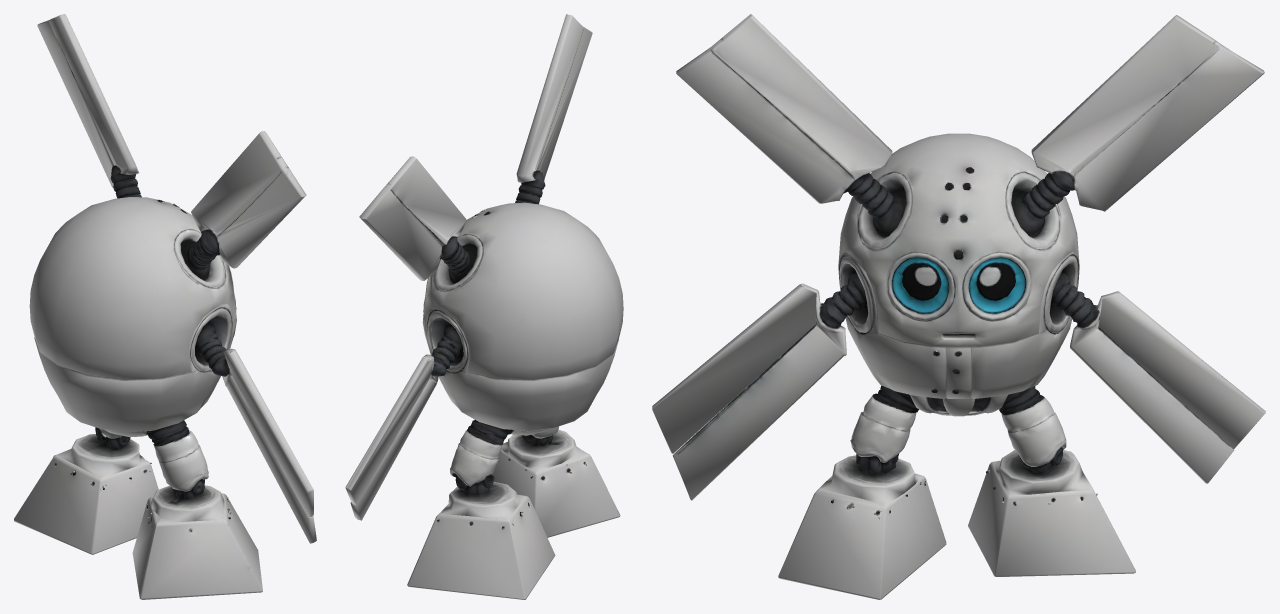
The model's file is turbchine.fbx.
3 renders of one model, left to right at view 1: azimuth 30°, elevation 25°; view 2: azimuth 150°, elevation 25°; view 3: azimuth 270°, elevation 25°, orthographic. The views are drawn at different scales.
Parts seen in each view (by area): view 1: tripo_node_13c72417; view 2: tripo_node_13c72417; view 3: tripo_node_13c72417.
Part boxes in pixels (box(x1,y1,x2,y2)): tripo_node_13c72417: box(14, 14, 316, 599); tripo_node_13c72417: box(345, 14, 623, 599); tripo_node_13c72417: box(652, 14, 1265, 599).
Size of the model in its own units: 0.3972 by 0.9999 by 1.
